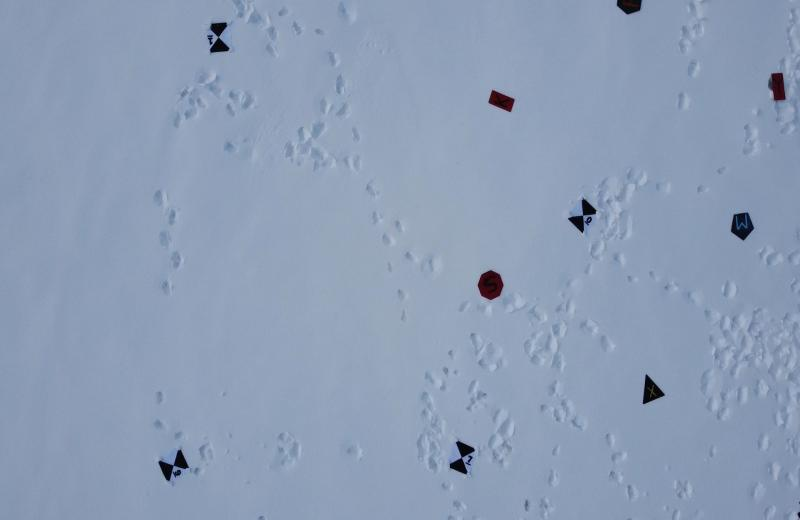Hexagon: (614, 0, 646, 22)
Octagon: (476, 269, 505, 303)
Pentagon: (727, 210, 757, 242)
Rectangle: (485, 86, 519, 117), (769, 72, 788, 104)
Triangle: (638, 370, 668, 408)
